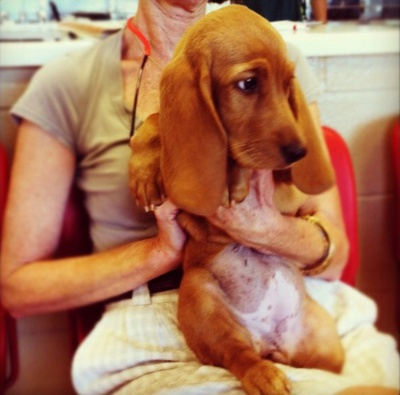daisy: (150, 10, 336, 215)
